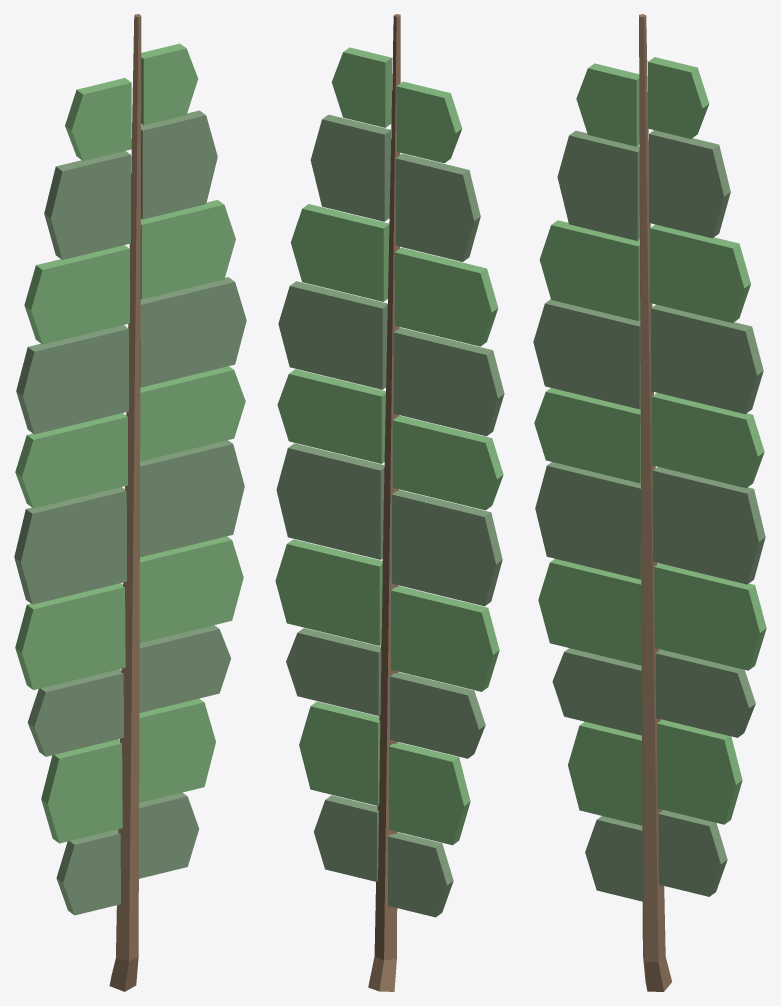
File: nilssonia-culgower-250480.6d0727108b1d.glb
3 renders of one model, left to right at view 1: azimuth 30°, elevation 25°; view 2: azimuth 150°, elevation 25°; view 3: azimuth 330°, elevation 25°, orthographic.
Parts seen in each view (by area): view 1: nilssonia-culgower-250480; view 2: nilssonia-culgower-250480; view 3: nilssonia-culgower-250480.
Boxes of the visible parts, x1,y1,x2,y2 form: nilssonia-culgower-250480: [14, 14, 246, 991]; nilssonia-culgower-250480: [275, 14, 504, 991]; nilssonia-culgower-250480: [533, 14, 766, 991].
Size of the model in its own units: 0.2383 by 1 by 0.0445.
